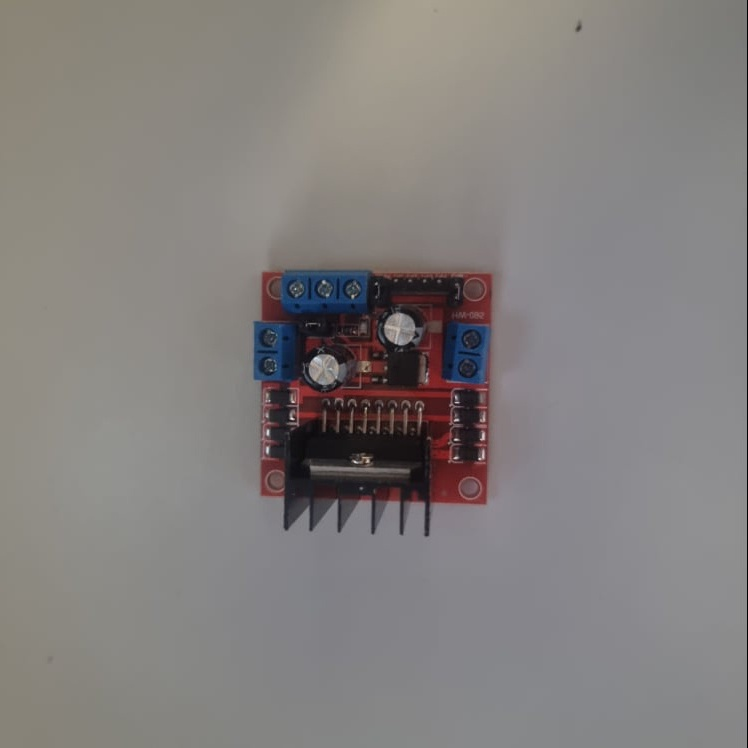MOTOR: (254, 265, 491, 538)
